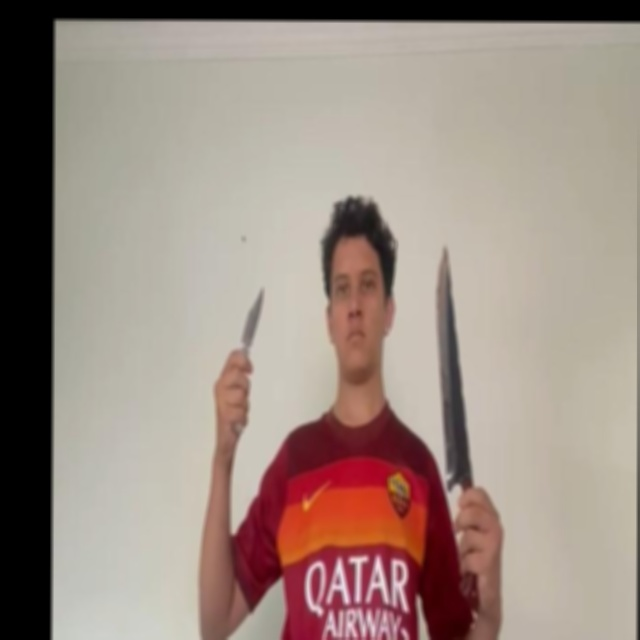Sharp-Object: (433, 242, 472, 484), (242, 287, 265, 347)
